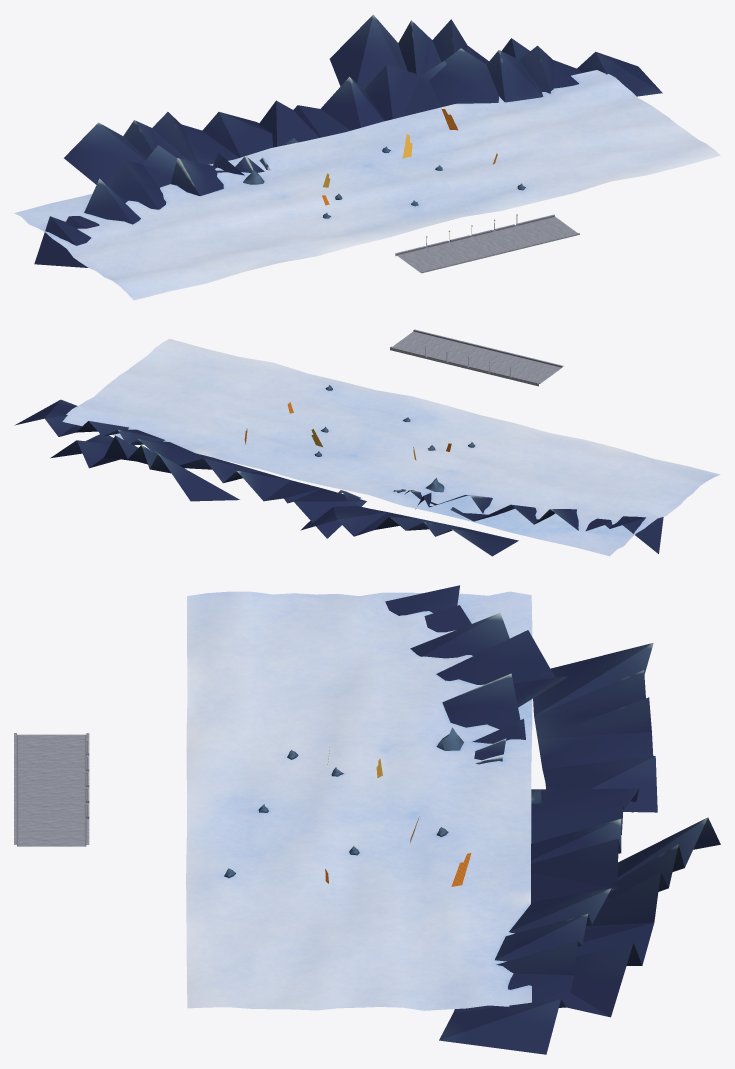
Rendered from Stage03_SnowField.fbx.
3 renders of one model, top to bottom at view 1: azimuth 30°, elevation 25°; view 2: azimuth 150°, elevation 25°; view 3: azimuth 270°, elevation 25°, orthographic. The views are drawn at different scales.
Parts seen in each view (by area): view 1: Stage03_SnowField; view 2: Stage03_SnowField; view 3: Stage03_SnowField.
Boxes of the visible parts, x1,y1,x2,y2 form: Stage03_SnowField: (14, 14, 720, 300); Stage03_SnowField: (14, 329, 720, 556); Stage03_SnowField: (14, 585, 720, 1054).
Bounding box in the file's own units: 4010 × 429 × 2630.
